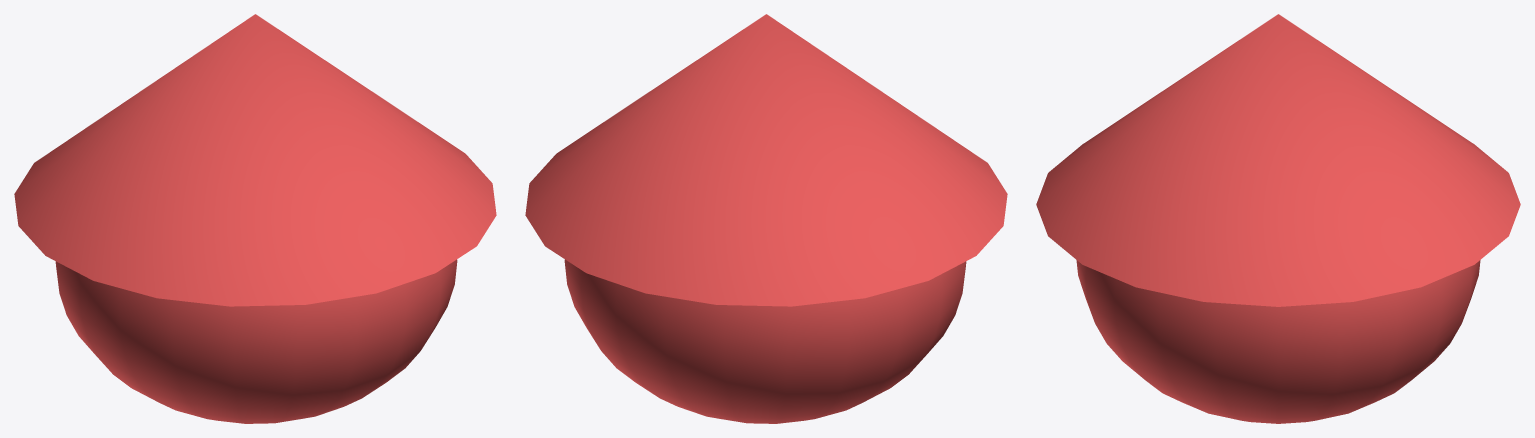
The model's file is kasasuraimu.fbx.
The picture shows the model from 3 angles, left to right: view 1: azimuth 30°, elevation 25°; view 2: azimuth 150°, elevation 25°; view 3: azimuth 270°, elevation 25°; orthographic projection.
Parts seen in each view (by area): view 1: pCone2; view 2: pCone2; view 3: pCone2.
Part boxes in pixels (box(x1,y1,x2,y2)): pCone2: box(14, 14, 496, 423); pCone2: box(525, 14, 1007, 423); pCone2: box(1036, 14, 1520, 423).
Size of the model in its own units: 2 by 1.76 by 2.
